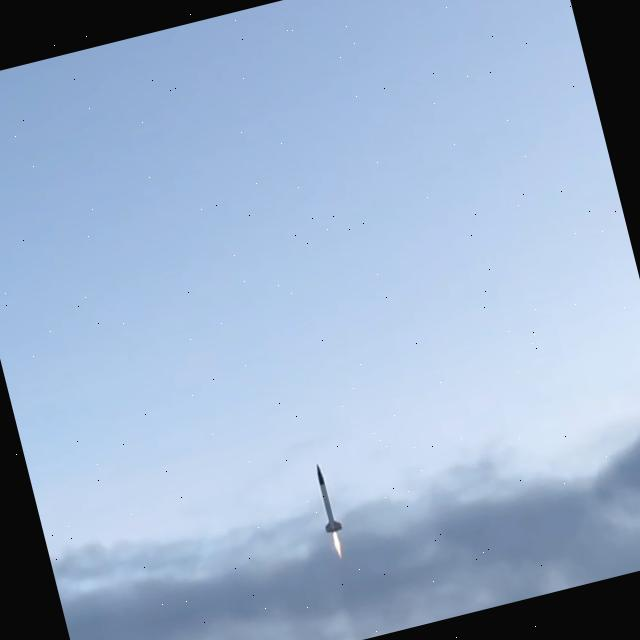rocket: (316, 465, 341, 557)
